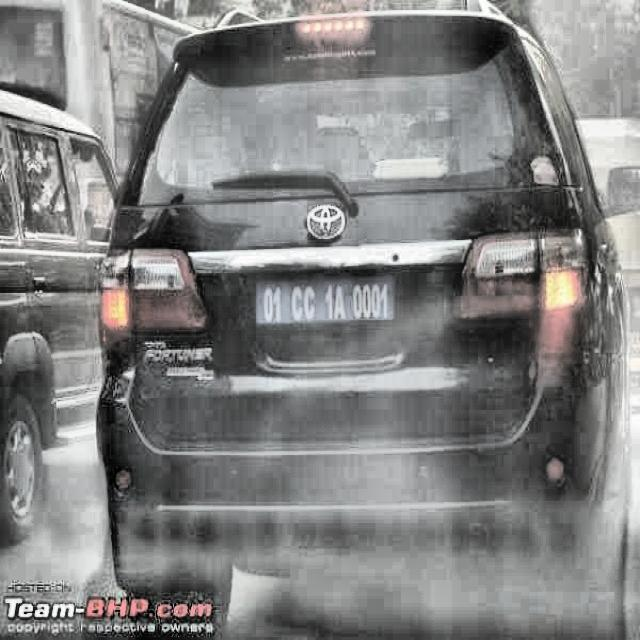license_plate: (254, 280, 396, 324)
